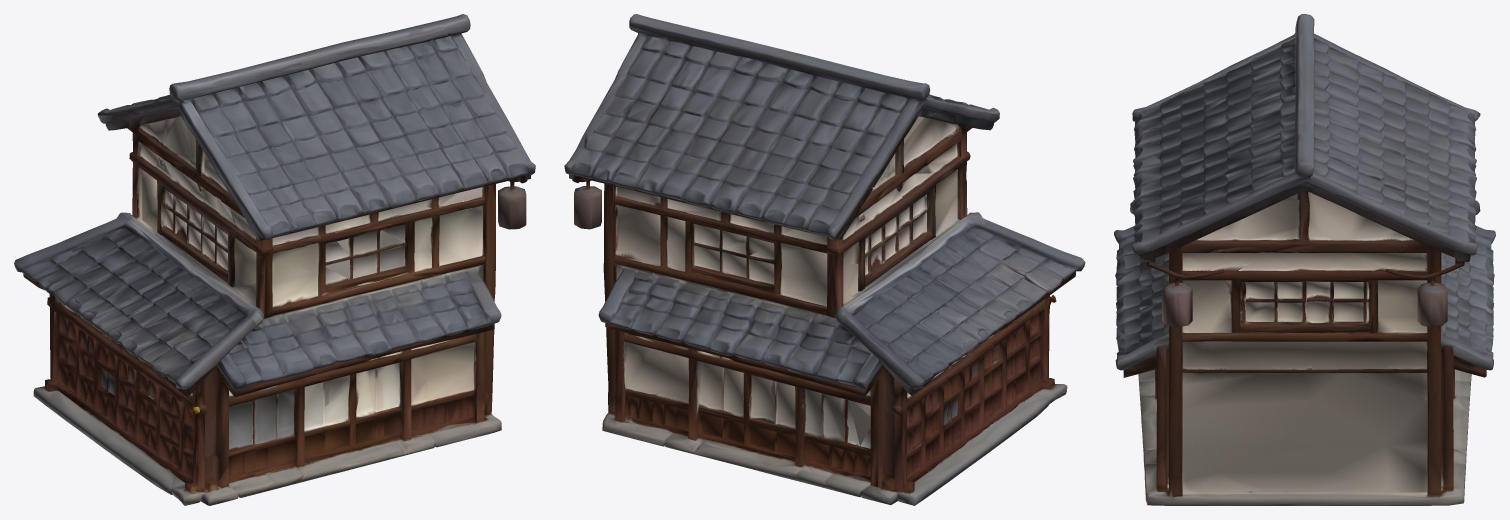
Rendered from bld_japan_machiya2f.fbx.
3 renders of one model, left to right at view 1: azimuth 30°, elevation 25°; view 2: azimuth 150°, elevation 25°; view 3: azimuth 270°, elevation 25°, orthographic. The views are drawn at different scales.
Visible parts, largest first — view 1: bld_japan_machiya2f_LOD0; view 2: bld_japan_machiya2f_LOD0; view 3: bld_japan_machiya2f_LOD0.
Boxes of the visible parts, box(x1,y1,x2,y2) form: bld_japan_machiya2f_LOD0: box(14, 14, 535, 505); bld_japan_machiya2f_LOD0: box(564, 14, 1085, 505); bld_japan_machiya2f_LOD0: box(1114, 14, 1495, 505).
Size of what is drawn, in the model's own units: 0.9804 by 0.887 by 0.8418.
